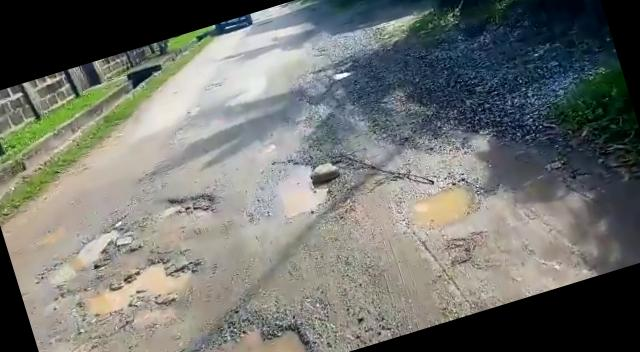pothole: (70, 245, 208, 326), (145, 299, 331, 352), (32, 218, 140, 284), (396, 176, 485, 238), (260, 150, 334, 224), (156, 183, 219, 227)
